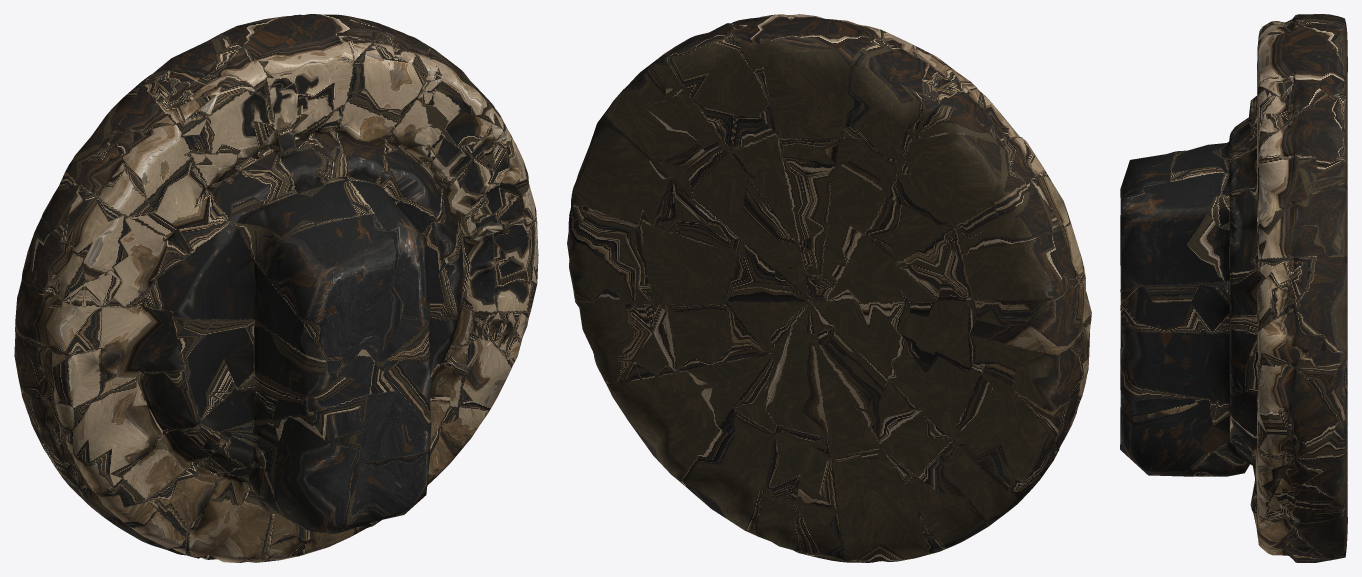
File: StoveKnob.glb
The picture shows the model from 3 angles, left to right: view 1: azimuth 30°, elevation 25°; view 2: azimuth 150°, elevation 25°; view 3: azimuth 270°, elevation 25°; orthographic projection. The views are drawn at different scales.
Parts seen in each view (by area): view 1: StoveKnob; view 2: StoveKnob; view 3: StoveKnob.
Part boxes in pixels (x1=…): StoveKnob: x1=14, y1=14, x2=538, y2=562; StoveKnob: x1=567, y1=14, x2=1091, y2=562; StoveKnob: x1=1120, y1=14, x2=1347, y2=562.
Bounding box in the file's own units: 1.9 × 1.9 × 0.7893.
1 material, 1 textured.
